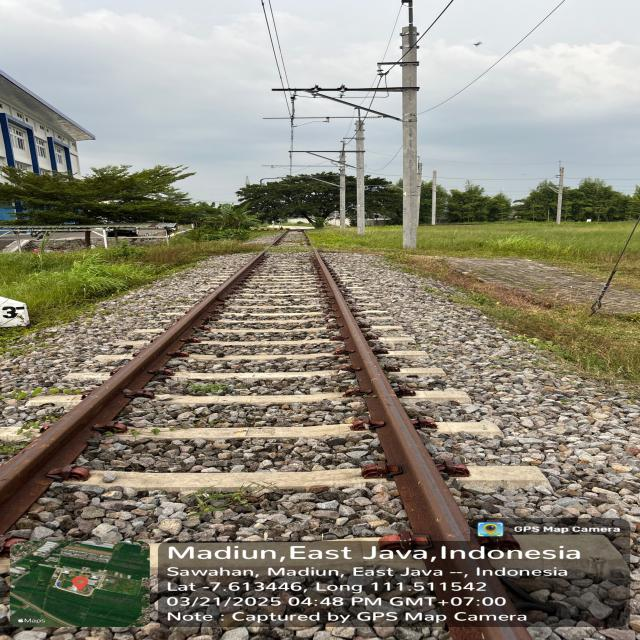rail-detection: (314, 250, 530, 640), (0, 252, 265, 534)
